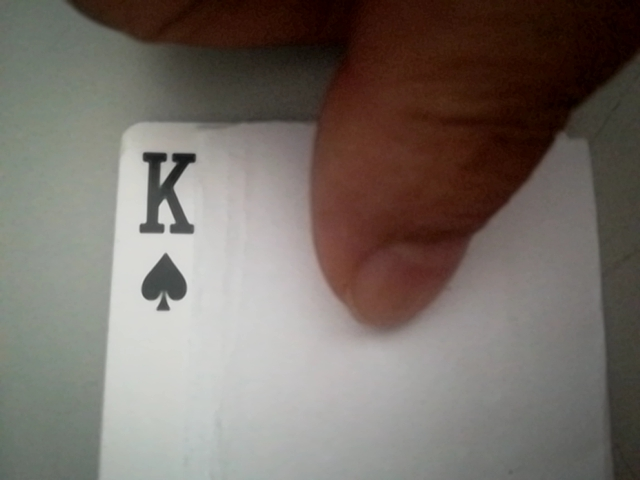ht k: (118, 138, 215, 318)
